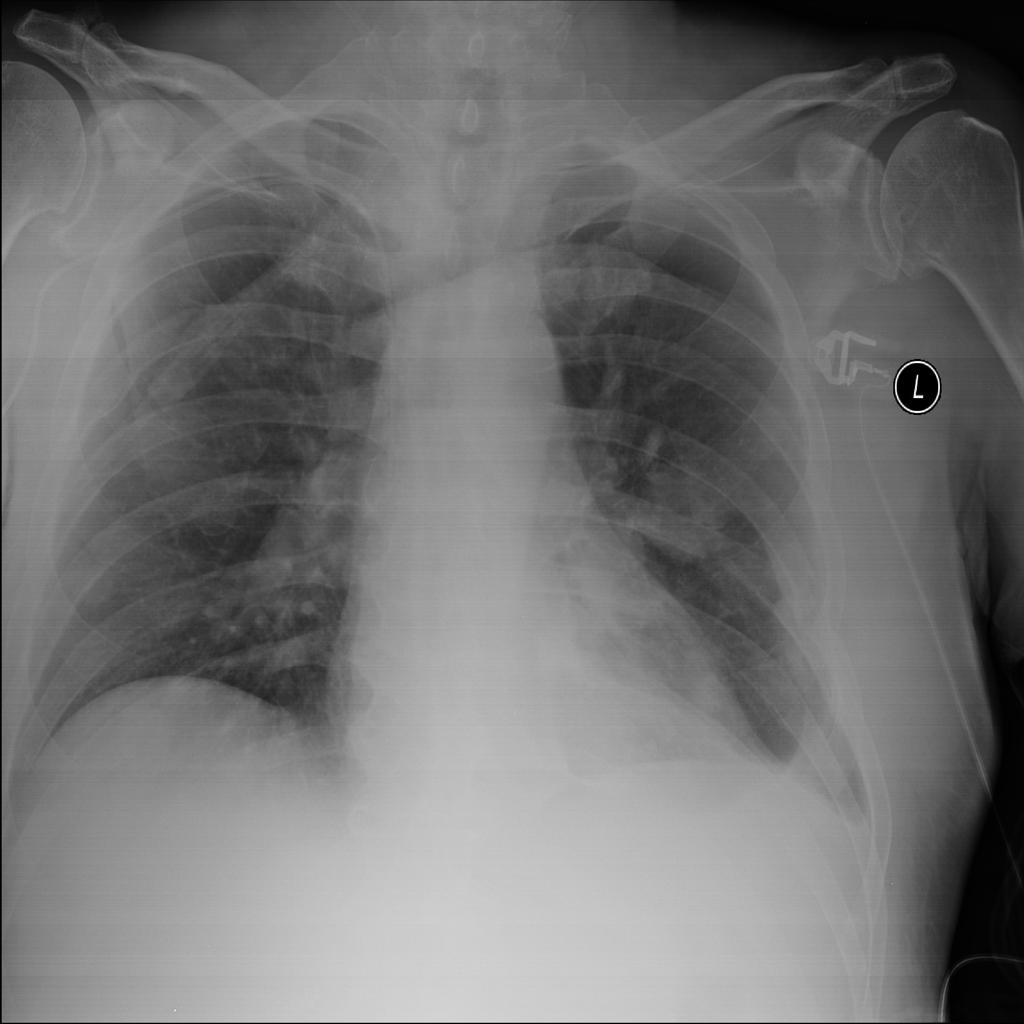nodule: (621, 440, 749, 576), (665, 656, 746, 729), (52, 551, 131, 616)
